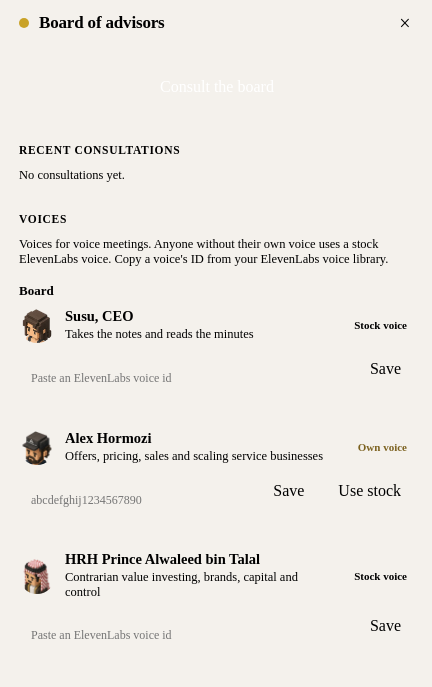
Test: Voice settings › shows server errors per row
(page scrolled)
Type "21m00Tcm4TlvDq8ikWAM" into the field with placeholder "Paste an ElevenLabs voice id" below "Susu, CEO".
click(184, 378); type("21m00Tcm4TlvDq8ikWAM")  # box [19,351,350,405]
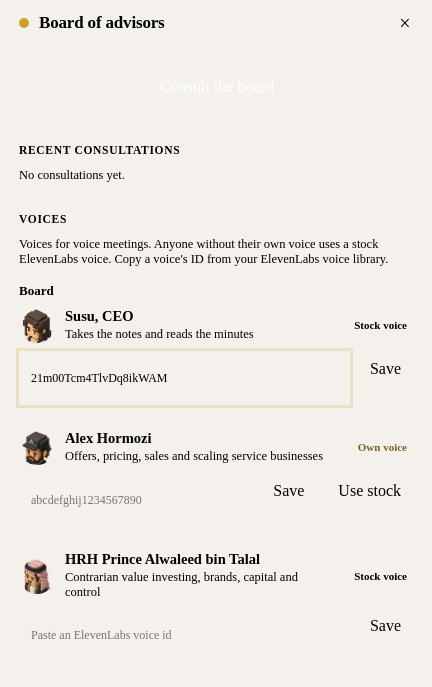
Click the button "Save" below "Susu, CEO".
click(385, 369)  # box [356,351,415,387]
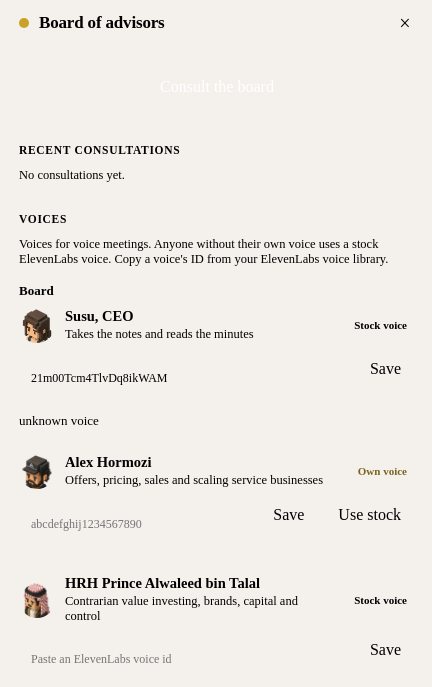
Expected: the message "unknown voice" is shown, [19,413,99,428]
